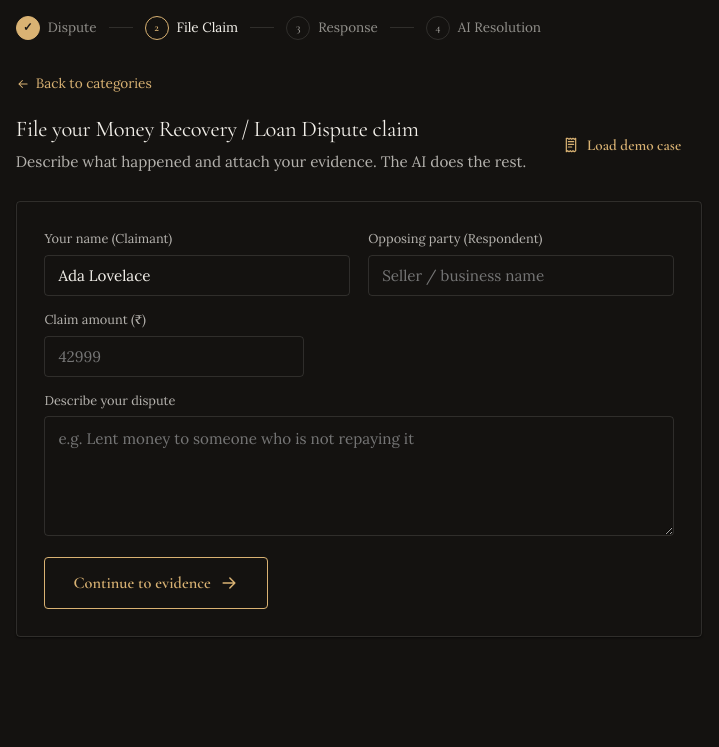
NewCase › category-mismatch suggestion › dismissing the suggestion hides the banner
This screenshot has width=719, height=747.
Type "Suresh Traders issued a cheque for Rs 2,50,000 to settle a debt and it bounced due to insufficient funds." into the text box labelled "Describe your dispute" at [359, 476], box [44,416,674,536]
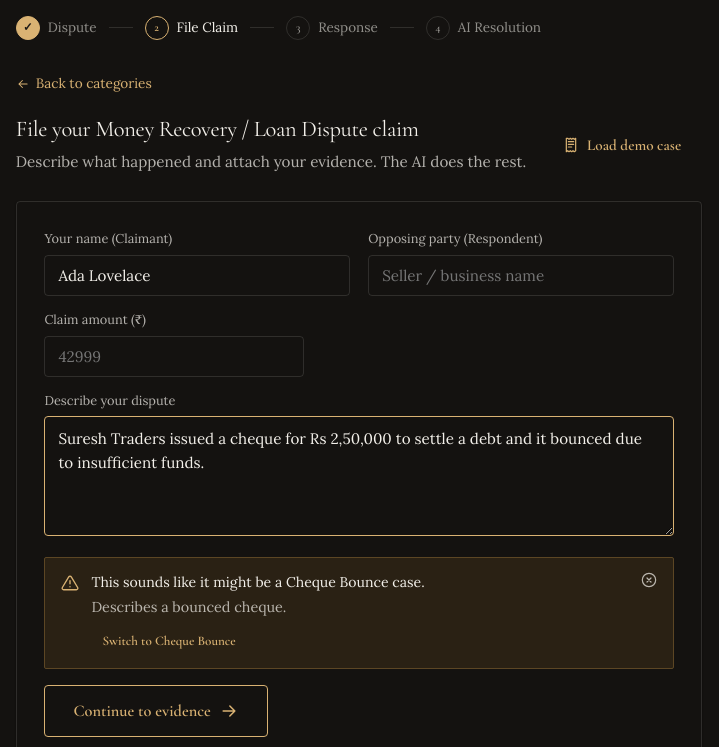
expect the text "This sounds like it might be a Cheque Bounce case." is shown: met, box [91,572,425,590]
Click the button named "dismiss suggestion" at [649, 582], box [641,572,657,592]
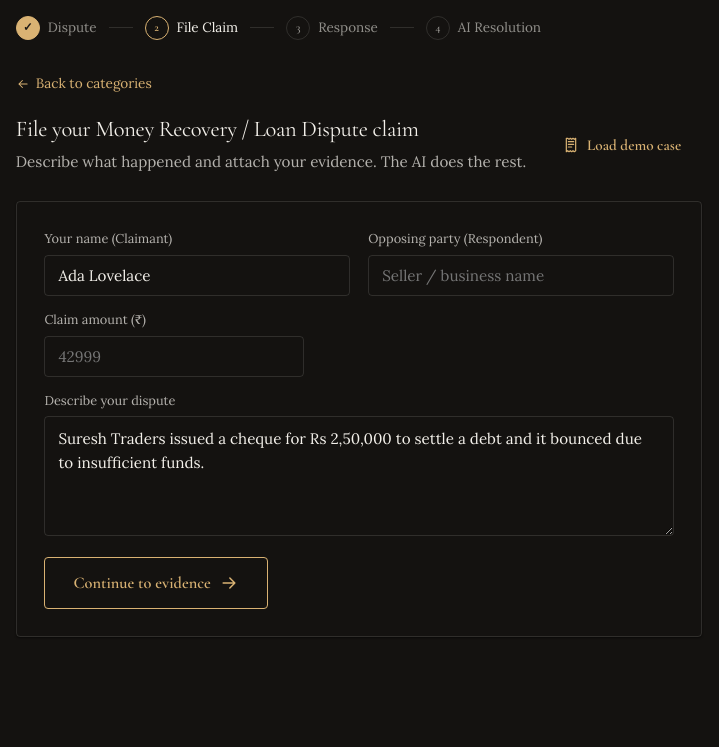
expect the text "Cheque Bounce case" is gone: met
